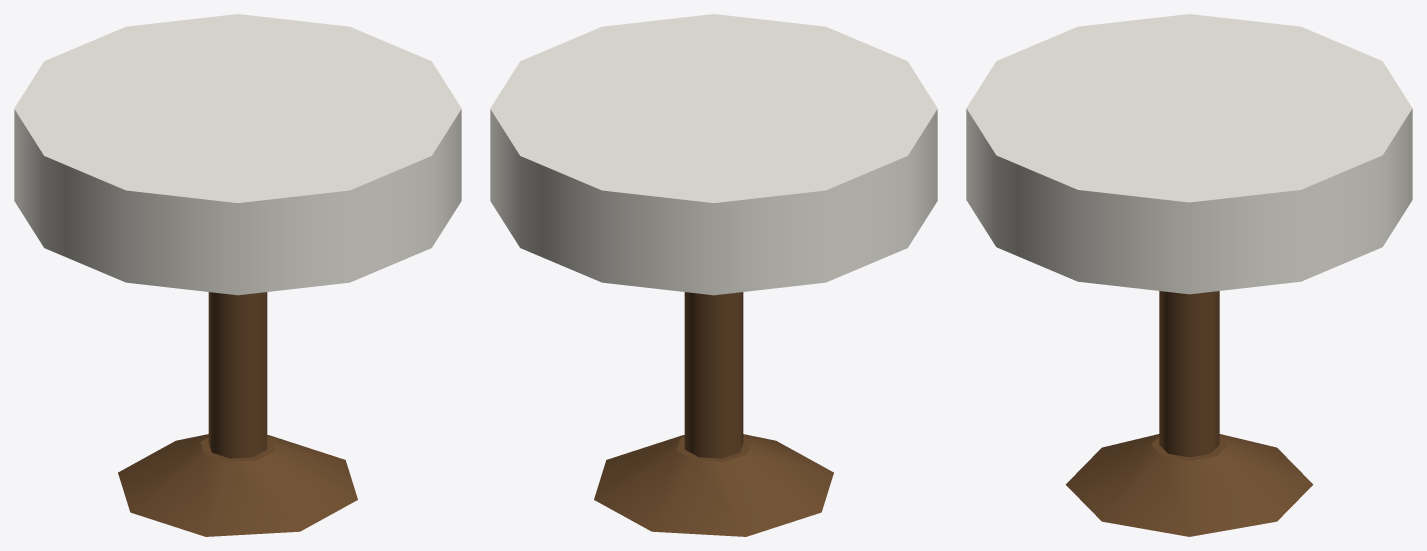
3 renders of one model, left to right at view 1: azimuth 30°, elevation 25°; view 2: azimuth 150°, elevation 25°; view 3: azimuth 270°, elevation 25°, orthographic.
Visible parts, largest first — view 1: parametric-variant-round-table-1st-pub-c998730f58aeee468cd4; view 2: parametric-variant-round-table-1st-pub-c998730f58aeee468cd4; view 3: parametric-variant-round-table-1st-pub-c998730f58aeee468cd4.
Part boxes in pixels (x1=…): parametric-variant-round-table-1st-pub-c998730f58aeee468cd4: x1=14, y1=14, x2=461, y2=536; parametric-variant-round-table-1st-pub-c998730f58aeee468cd4: x1=490, y1=14, x2=937, y2=536; parametric-variant-round-table-1st-pub-c998730f58aeee468cd4: x1=966, y1=14, x2=1412, y2=536.
Bounding box in the file's own units: 0.81 × 0.754 × 0.81.
